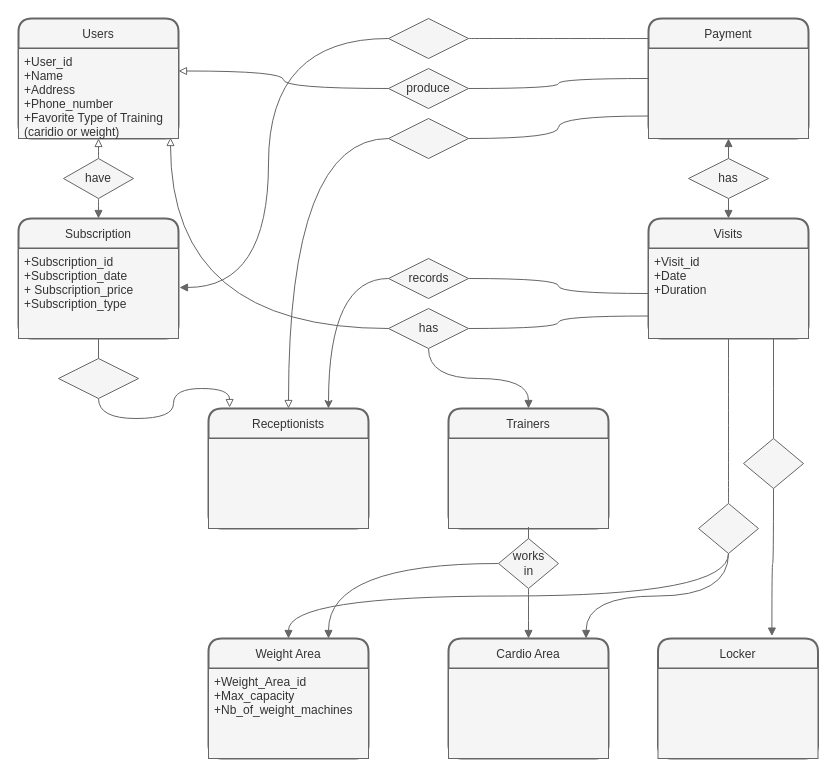
Image size: 836x776. Some labels were removed from this diagram. The shapes that lost their labels are listed below. From the top down, each one's centre as x and y in pixels, then its label:
At (x=428, y=38): "are paid".
At (x=728, y=93): "+ Payment_id + Amount_paid + Date + Payment method".
At (x=428, y=138): "processes".
At (x=98, y=378): "passes".
At (x=288, y=483): "+Receptionis_id +Name +e-mail +Phone_number +Address".
At (x=528, y=483): "+Trainer_id +Name +e-mail +Phone_number +Address".
At (x=773, y=463): "occupies".
At (x=728, y=528): "trains in".
At (x=528, y=713): "+Cardio _area_id +Max_capacity +Nb_of_cardio_machines".
At (x=737, y=713): "+Locker_id +Locker_number +Location".
